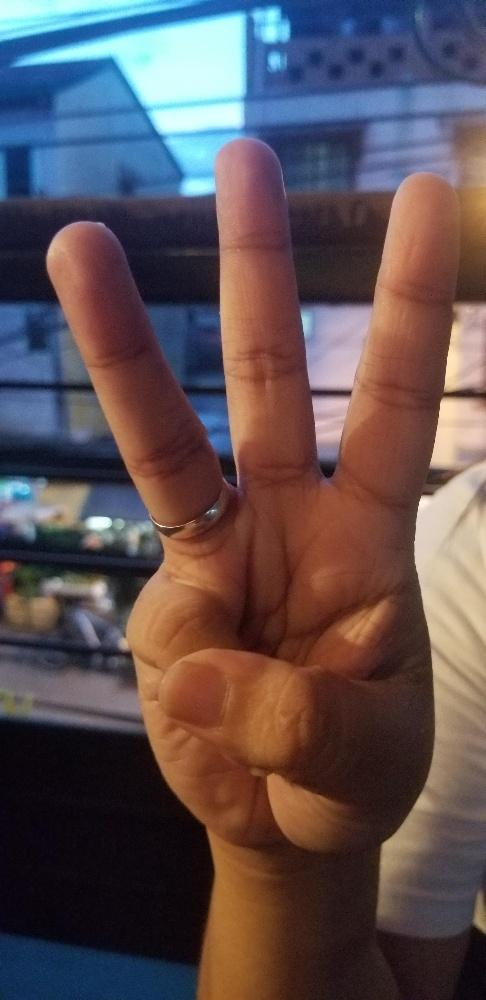w: (40, 134, 462, 856)
